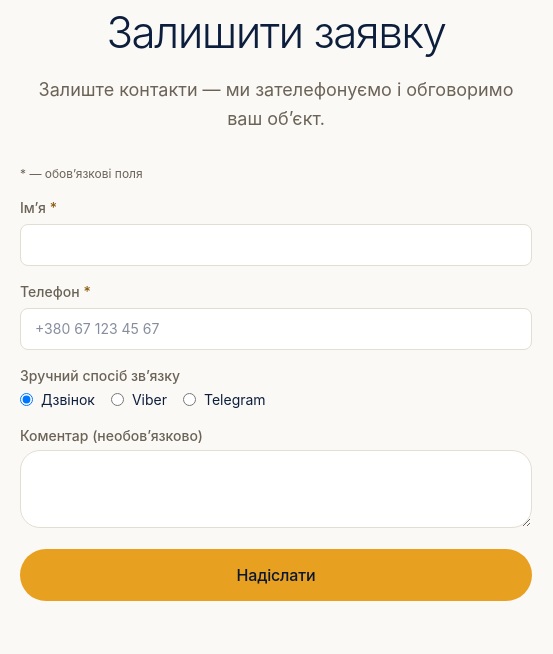
Test: ContactForm › recovers from a rejected request without clearing the contact details
In the field labelled "Ім’я*": (276, 245) [20,224,532,266], type "Олена"
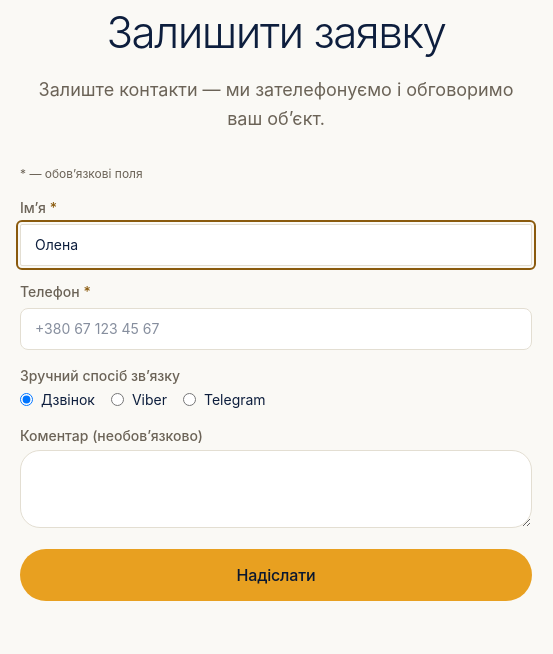
In the field labelled "Телефон*": (276, 329) [20,308,532,350], type "+380671234567"
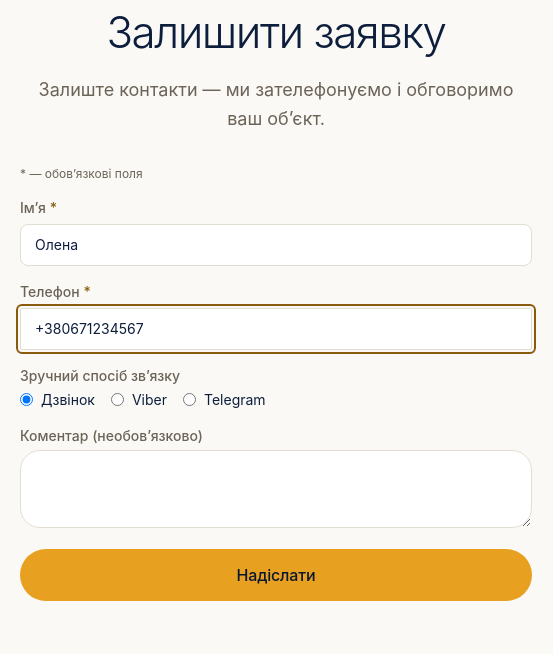
Click the button "Надіслати": (276, 575) [20,549,532,601]
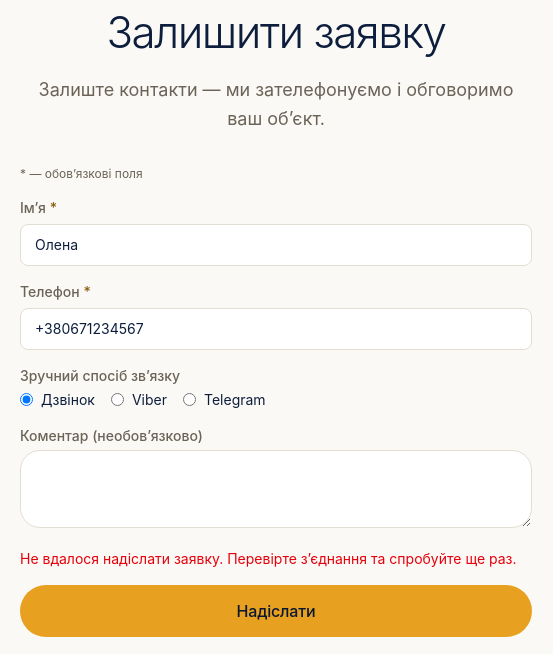
Check: the button "Надіслати" is enabled, box [20,585,532,637]
Check: the message reads "Не вдалося надіслати заявку. Перевірте з’єднання та спробуйте ще раз.", box [20,550,516,567]
